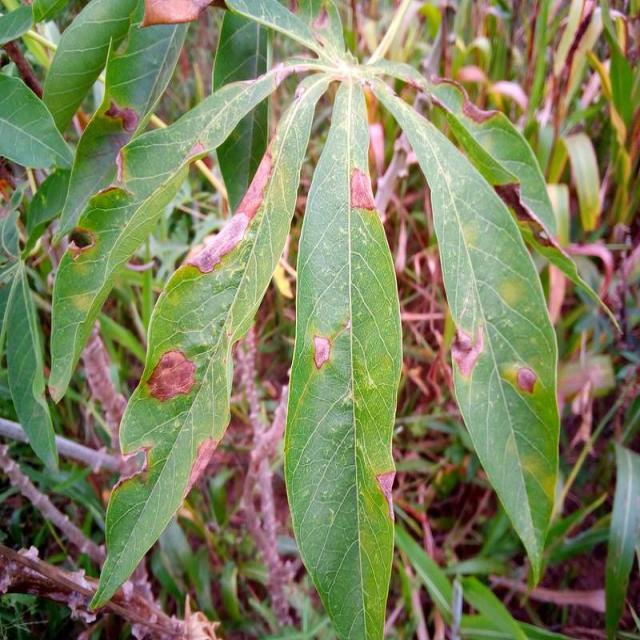cassava leaf: (89, 67, 334, 611), (369, 72, 562, 589), (283, 73, 404, 638)
